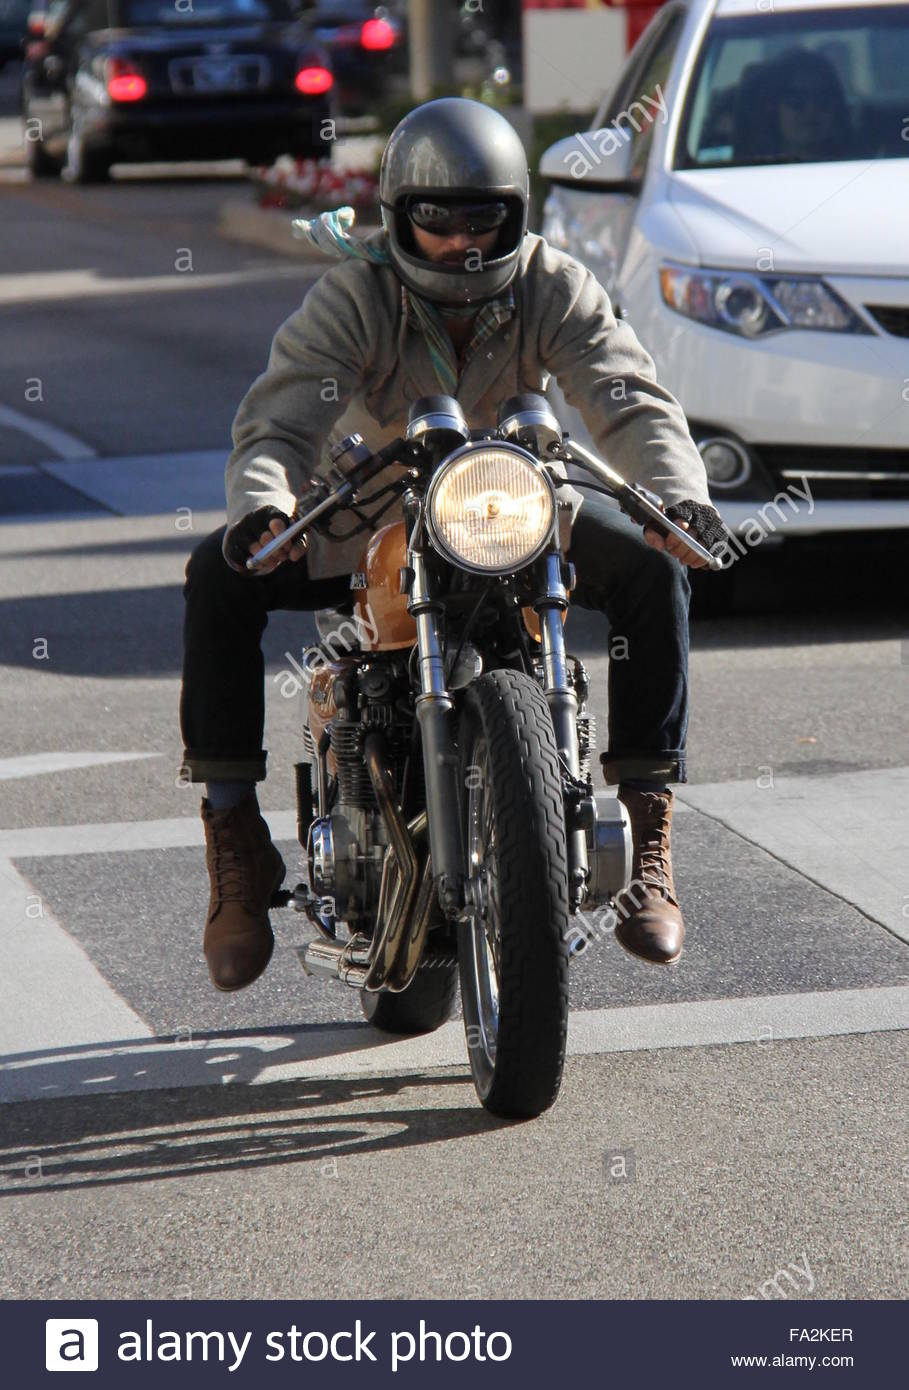helmet: (378, 79, 597, 301)
